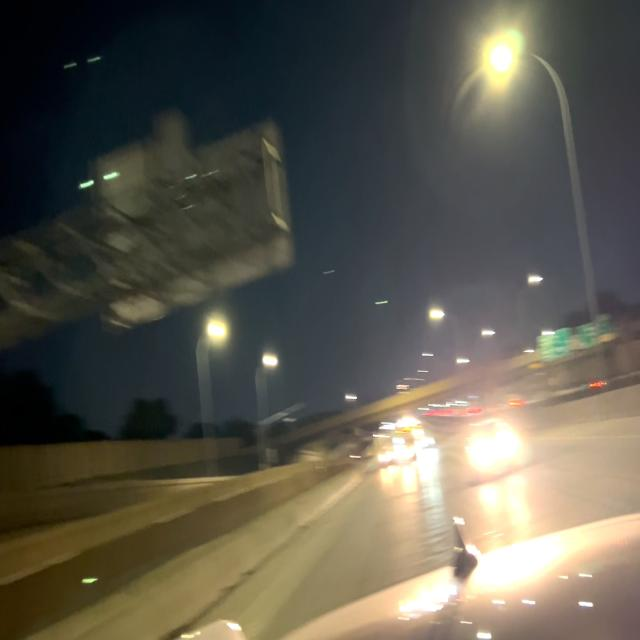back-of-sign: (91, 105, 294, 333)
